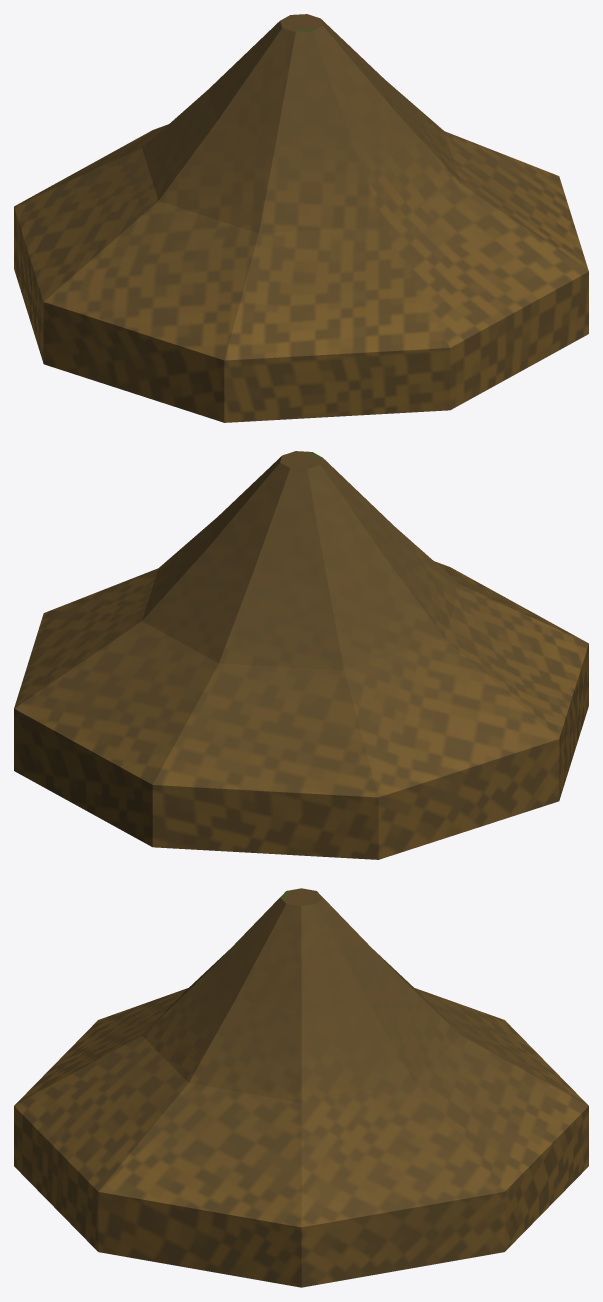
Rendered from gora5.fbx.
3 renders of one model, top to bottom at view 1: azimuth 30°, elevation 25°; view 2: azimuth 150°, elevation 25°; view 3: azimuth 270°, elevation 25°, orthographic. The views are drawn at different scales.
Visible parts, largest first — view 1: Cylinder.004; view 2: Cylinder.004; view 3: Cylinder.004.
Boxes of the visible parts, left/top/right/bottom form: Cylinder.004: left=14, top=14, right=588, bottom=422; Cylinder.004: left=14, top=451, right=588, bottom=859; Cylinder.004: left=14, top=888, right=588, bottom=1287.
Size of the model in its own units: 4423 by 2282 by 4423.
